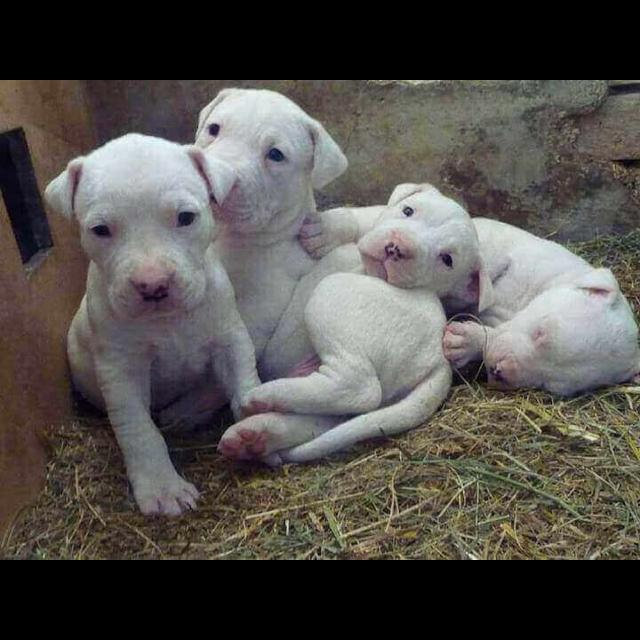dogo_argentino: (45, 132, 264, 521), (216, 182, 492, 469), (298, 207, 640, 400), (190, 90, 349, 369)
